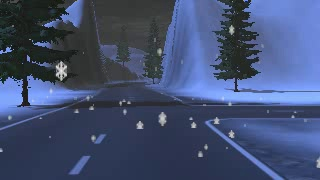Lane: (0, 82, 284, 179)
